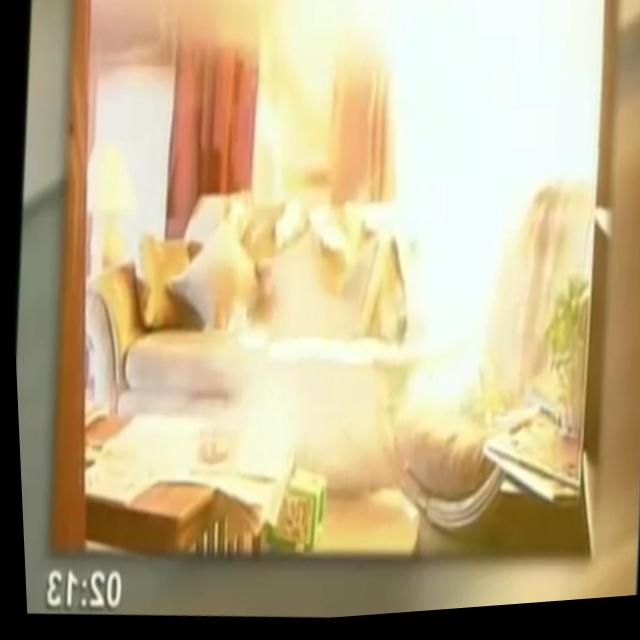fire: (338, 0, 618, 423)
